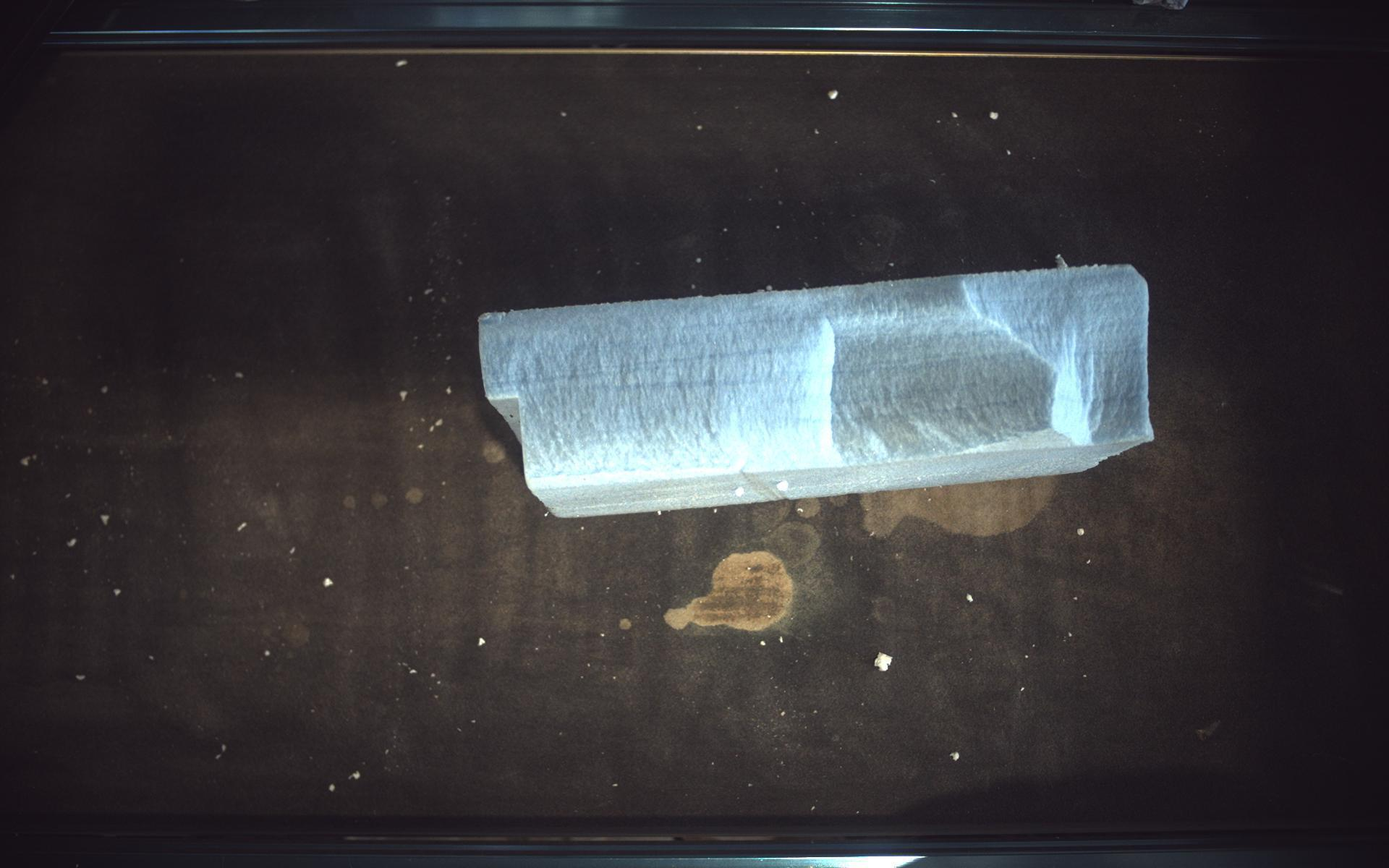foam: (480, 265, 1156, 517)
